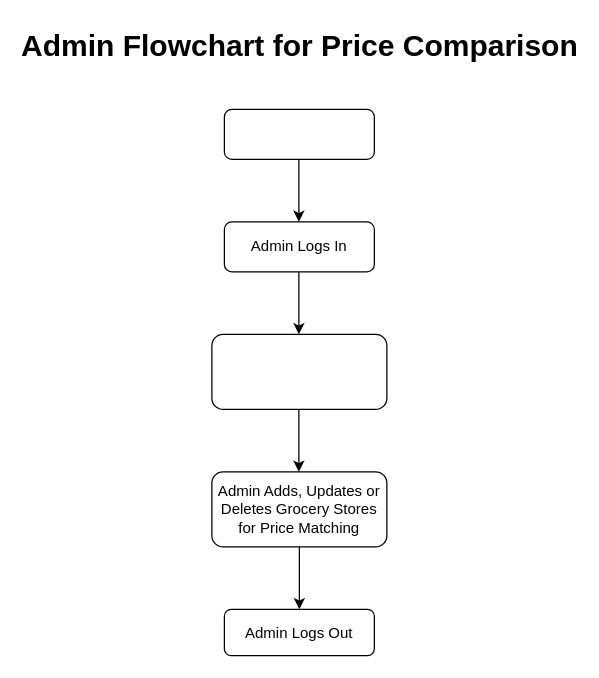
This 599x678 diagram has some shape labels left out. Here are the shapes that lost their labels. From the top down, the centre of each, then its label:
At (298,133): "Admin Open App".
At (299,371): "Admin Adds or Updates Product Quantities for Price Matching".
